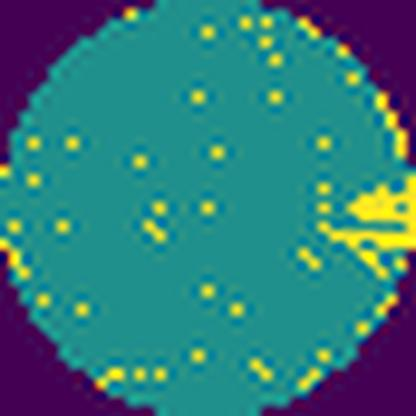Edge-Loc: (320, 170, 416, 270)
